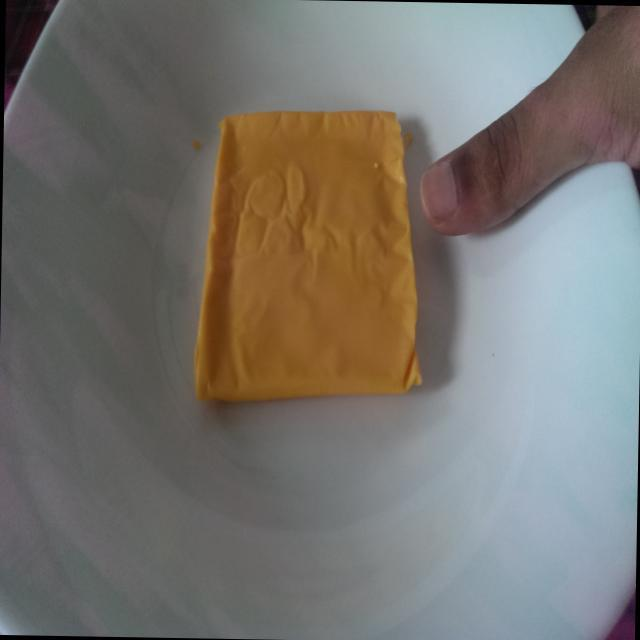Cheese: (186, 93, 418, 420)
Finger: (412, 67, 549, 267)
